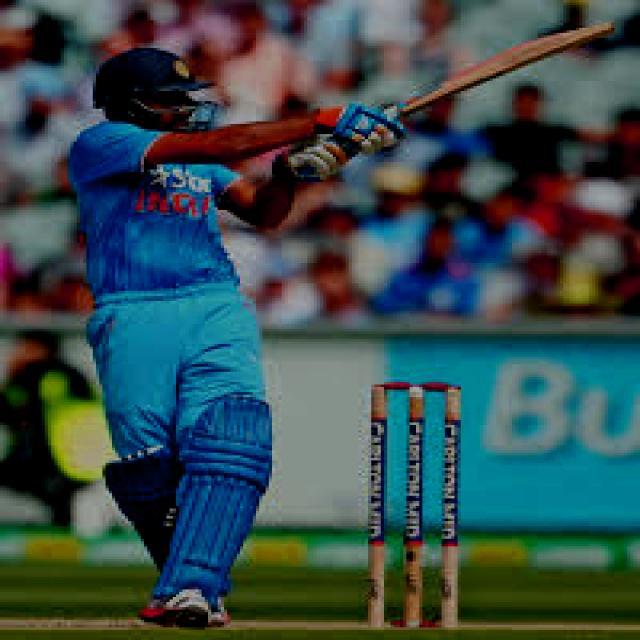toe: (590, 12, 624, 36)
